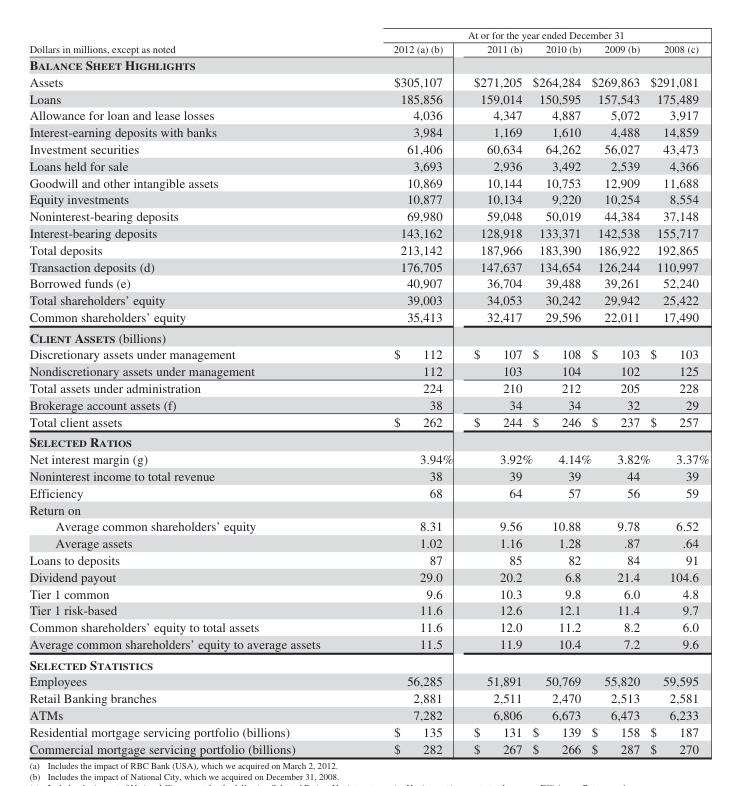table: (28, 28, 708, 755)
table column: (28, 28, 356, 755), (356, 28, 462, 755), (462, 28, 532, 755), (590, 28, 649, 755), (649, 28, 708, 755), (532, 28, 590, 755)
table column header: (28, 28, 708, 55)
table projected row header: (28, 326, 708, 345), (28, 431, 708, 450), (28, 653, 708, 672), (28, 55, 708, 72), (28, 500, 708, 517)
table row: (28, 326, 708, 345), (28, 412, 708, 431), (28, 431, 708, 450), (28, 653, 708, 672), (28, 308, 708, 326), (28, 635, 708, 653), (28, 55, 708, 72), (28, 72, 708, 89), (28, 89, 708, 106), (28, 106, 708, 123), (28, 123, 708, 140), (28, 156, 708, 173), (28, 173, 708, 190), (28, 190, 708, 207), (28, 207, 708, 224), (28, 240, 708, 257), (28, 257, 708, 274), (28, 274, 708, 291), (28, 291, 708, 308), (28, 345, 708, 362), (28, 362, 708, 379), (28, 379, 708, 396), (28, 450, 708, 467), (28, 483, 708, 500), (28, 500, 708, 517), (28, 517, 708, 534), (28, 534, 708, 551), (28, 567, 708, 584), (28, 584, 708, 601), (28, 601, 708, 618), (28, 618, 708, 635), (28, 672, 708, 689), (28, 689, 708, 706), (28, 706, 708, 723), (28, 140, 708, 156), (28, 224, 708, 240), (28, 396, 708, 412), (28, 467, 708, 483), (28, 551, 708, 567), (28, 723, 708, 739), (28, 739, 708, 755), (28, 41, 708, 55), (28, 28, 708, 41)
table spanning cell: (28, 28, 356, 55), (356, 28, 708, 41)
